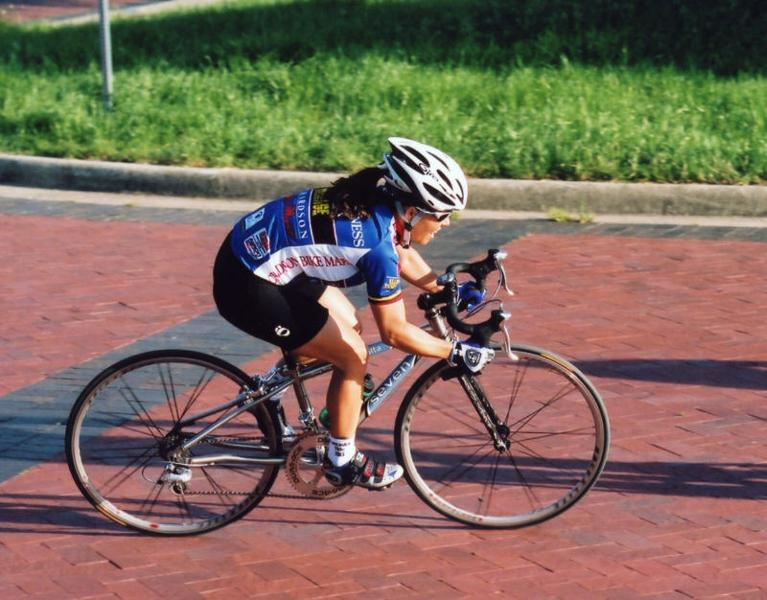person: (212, 135, 496, 493)
